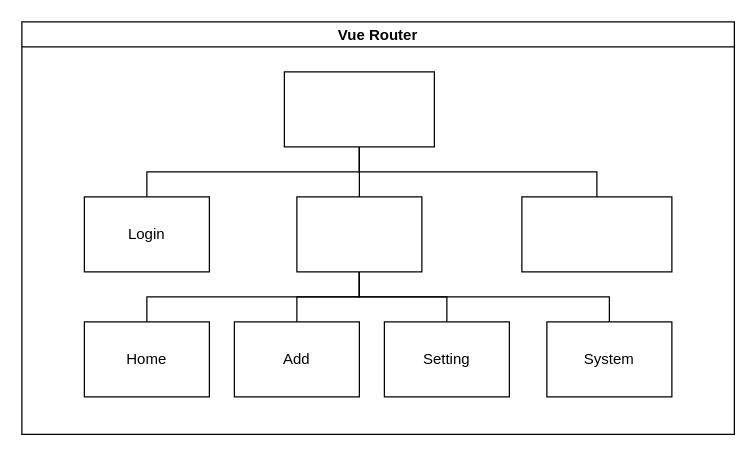
Some shapes in this 756 by 456 pixel diagram are drawn without their labels. Each missing label, with the centre of its shape:
Logout: the point at 359,234
NotFound: the point at 596,234
Router: the point at 358,109
